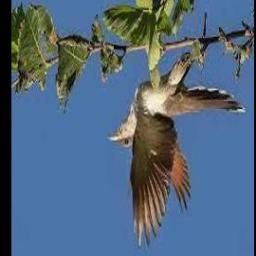Cuckoo: (107, 56, 246, 252)
